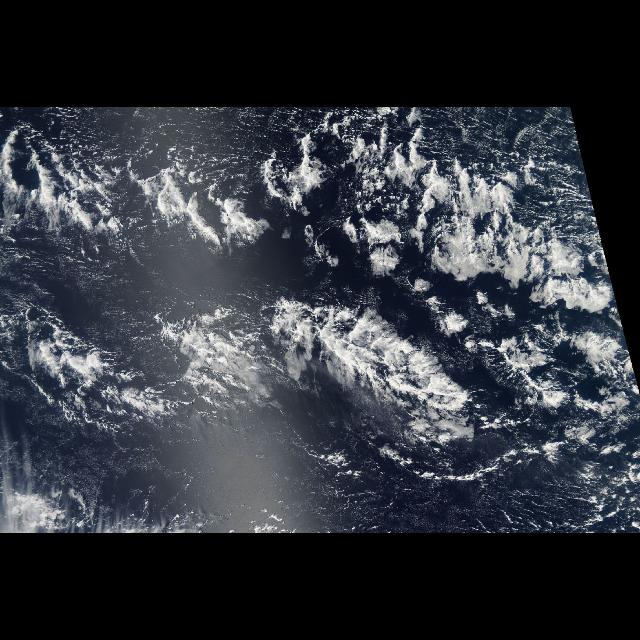Fish: (253, 286, 493, 460), (17, 303, 164, 433)
Sugar: (81, 109, 285, 153), (440, 466, 584, 524), (429, 112, 587, 164)
